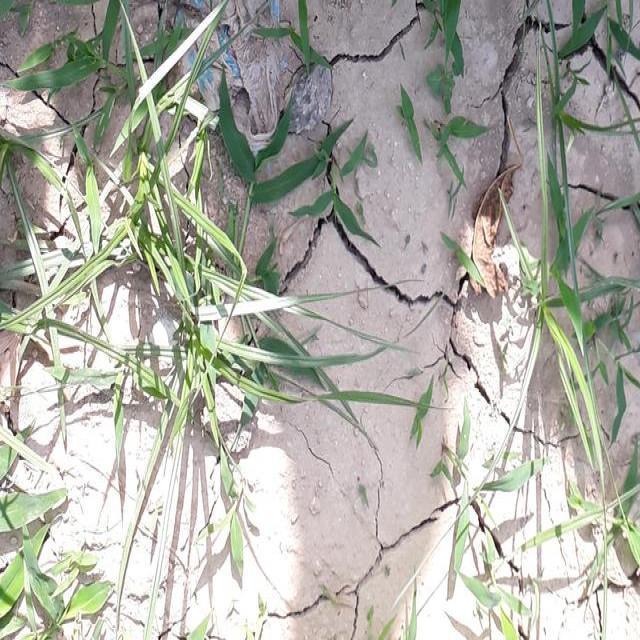weed: (18, 26, 294, 473)
